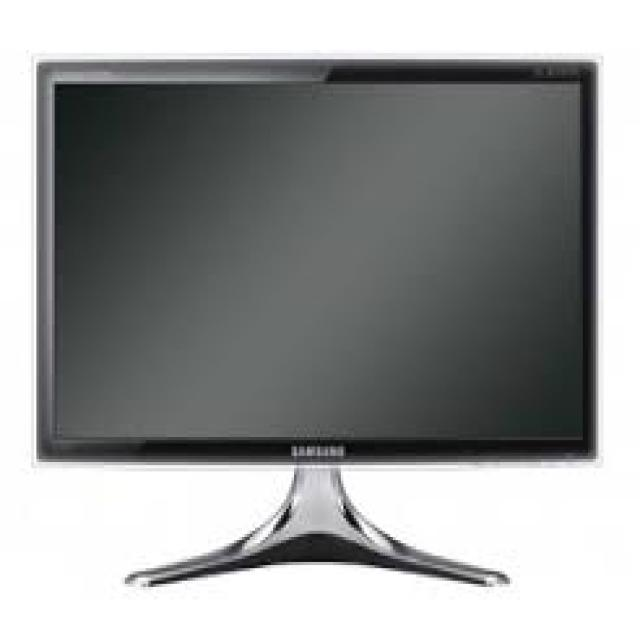monitor: (47, 59, 596, 462)
